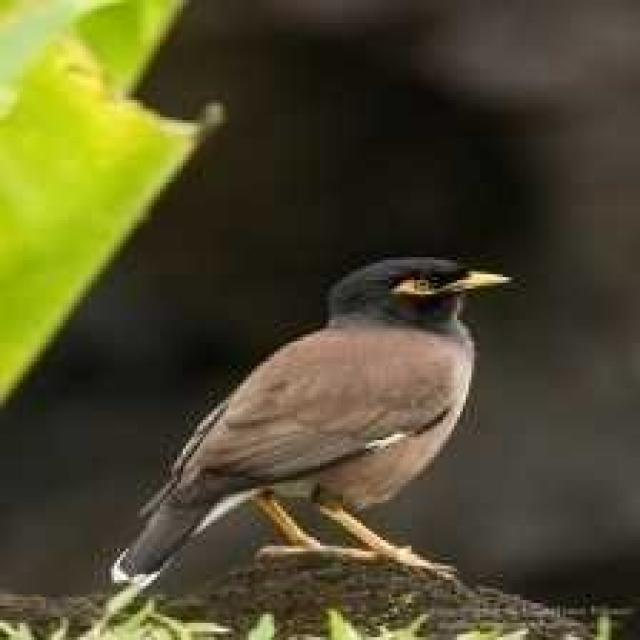bird: (108, 255, 512, 611)
